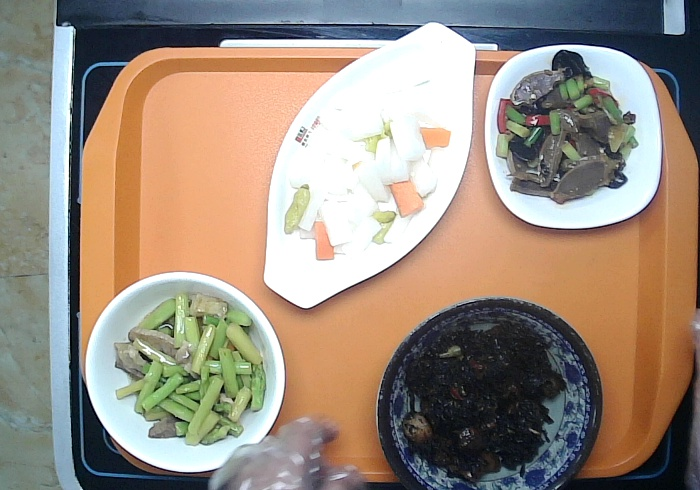ZNLD-Qing_Hua_Wan: (370, 293, 607, 490)
ZNLD-Si_Fang_Wan: (480, 40, 667, 237)
ZNLD-Tang_Wan: (82, 267, 290, 475)
ZNLD-Yu_Pan: (257, 20, 481, 314)
